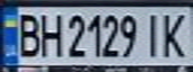1: (84, 10, 103, 58)
2: (63, 10, 87, 58), (100, 11, 121, 60)
9: (118, 11, 142, 60)
B: (12, 10, 42, 58)
H: (36, 9, 63, 58)
I: (139, 10, 166, 60)
K: (157, 9, 193, 60)
